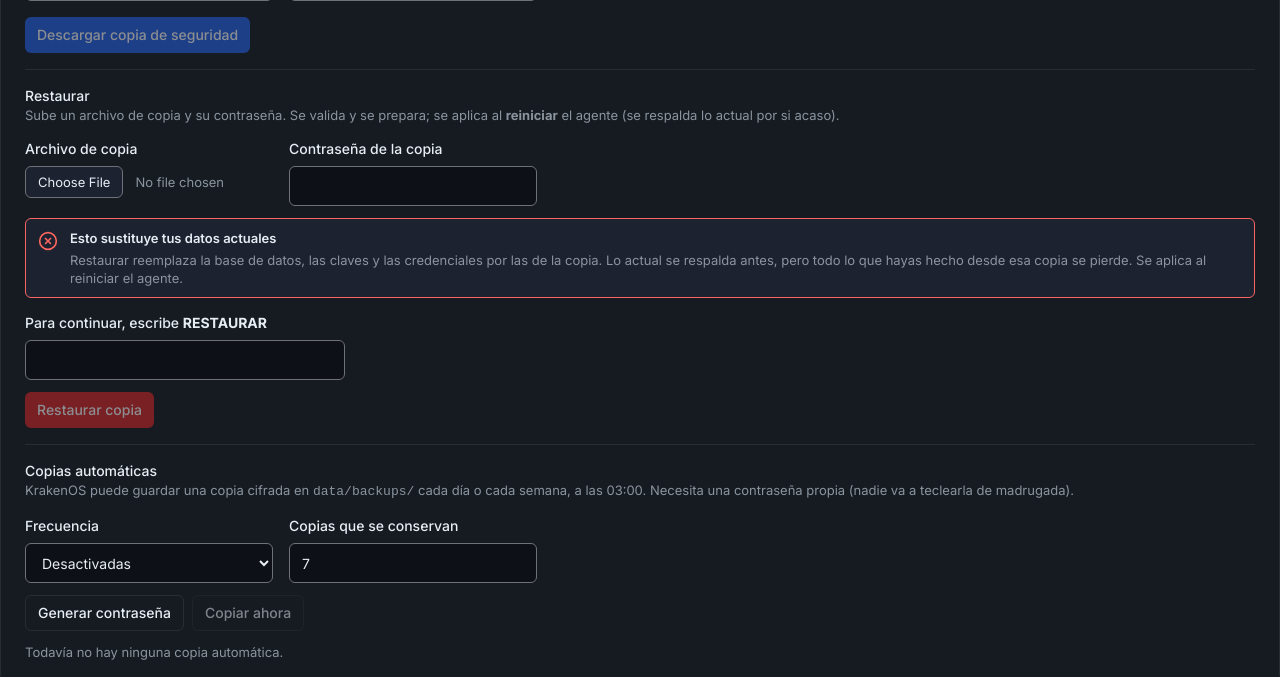
Test case: SystemBackupCard — copias automáticas › genera la contraseña y avisa de guardarla FUERA del servidor
(page scrolled)
Click the button "Generar contraseña". click: (104, 613)
box: [25, 595, 184, 631]
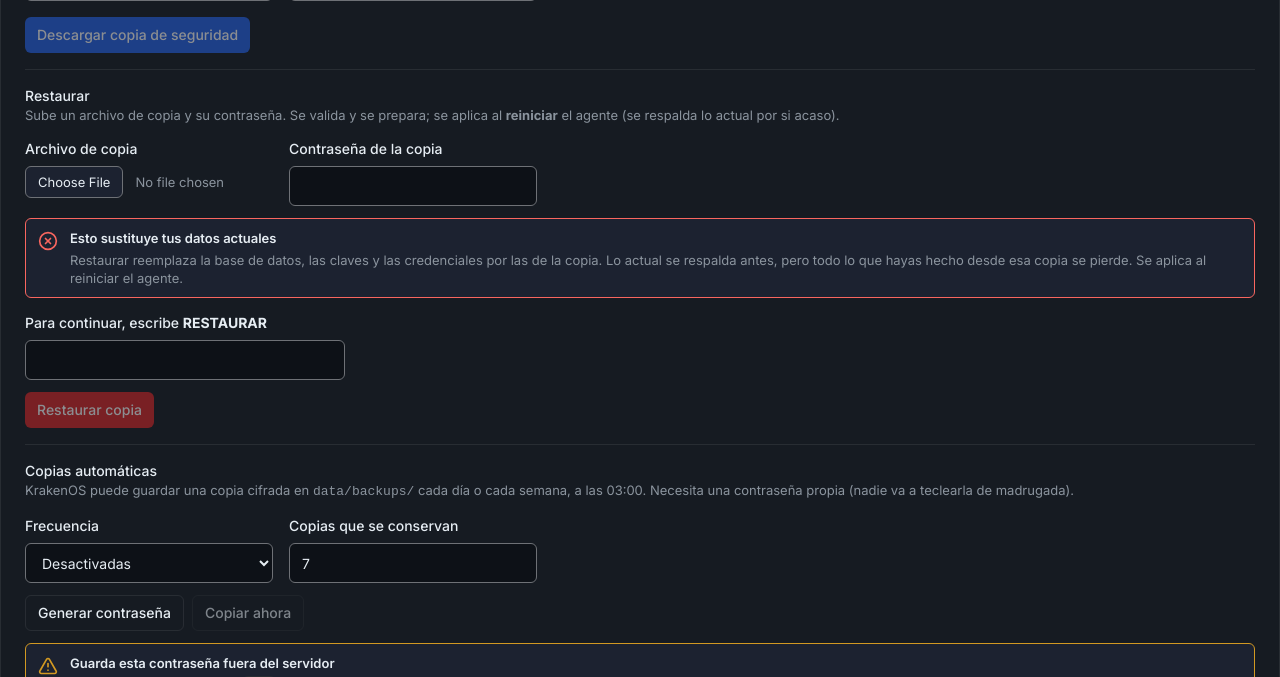
Expected: the text "Guarda esta contraseña fuera del servidor" is shown, [70, 655, 334, 671]
